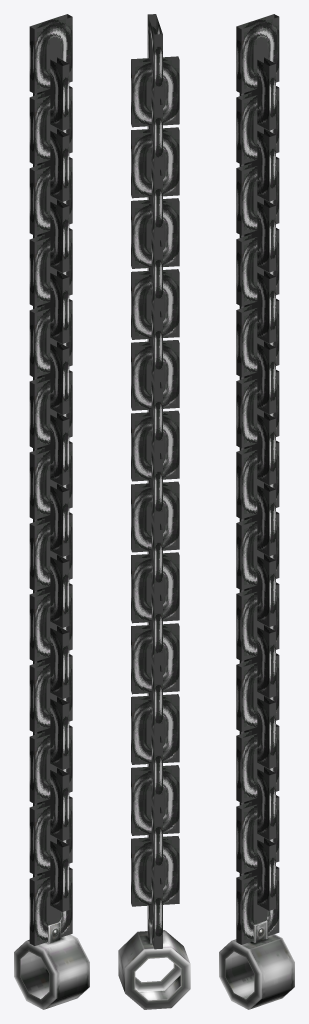
File: SWORDLIGHT20_INST_CHAINB_LOD1_03.fbx
The picture shows the model from 3 angles, left to right: view 1: azimuth 90°, elevation 25°; view 2: azimuth 150°, elevation 25°; view 3: azimuth 270°, elevation 25°; orthographic projection.
Parts seen in each view (by area): view 1: SWORDLIGHT20_INST_CHAINB_LOD1_03; view 2: SWORDLIGHT20_INST_CHAINB_LOD1_03; view 3: SWORDLIGHT20_INST_CHAINB_LOD1_03.
Part boxes in pixels (<box>): SWORDLIGHT20_INST_CHAINB_LOD1_03: <box>14,14,89,1009</box>; SWORDLIGHT20_INST_CHAINB_LOD1_03: <box>118,14,190,1009</box>; SWORDLIGHT20_INST_CHAINB_LOD1_03: <box>219,14,294,1009</box>.
Size of the model in its own units: 1650 by 22491 by 1580.
2 materials, 2 textured.
